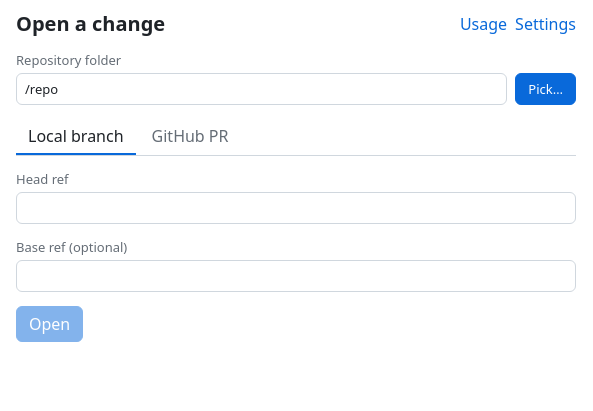
Scenario: screens › shows GitHub CLI errors from openTarget verbatim
This screenshot has width=593, height=411.
In the field labelled "Head ref": (296, 208) [16,192,576,224], type "feature"
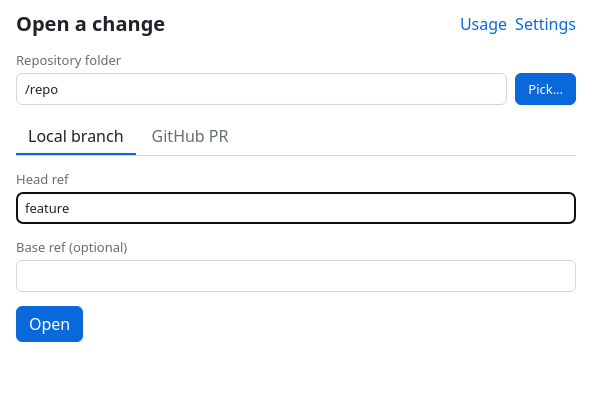
Click the button "Open": (50, 324) [16,306,83,342]
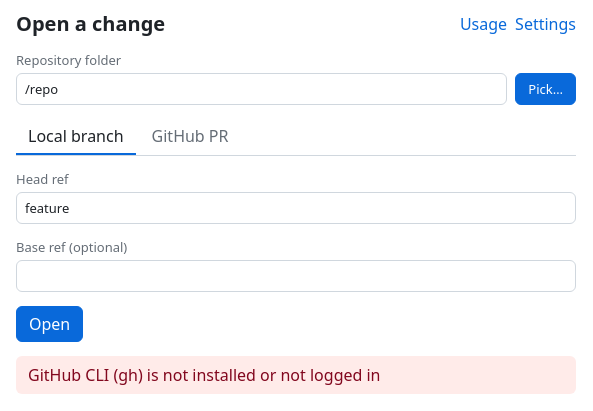
expect the text "GitHub CLI (gh) is not installed or not logged in" is shown: met, box [28,364,380,386]
